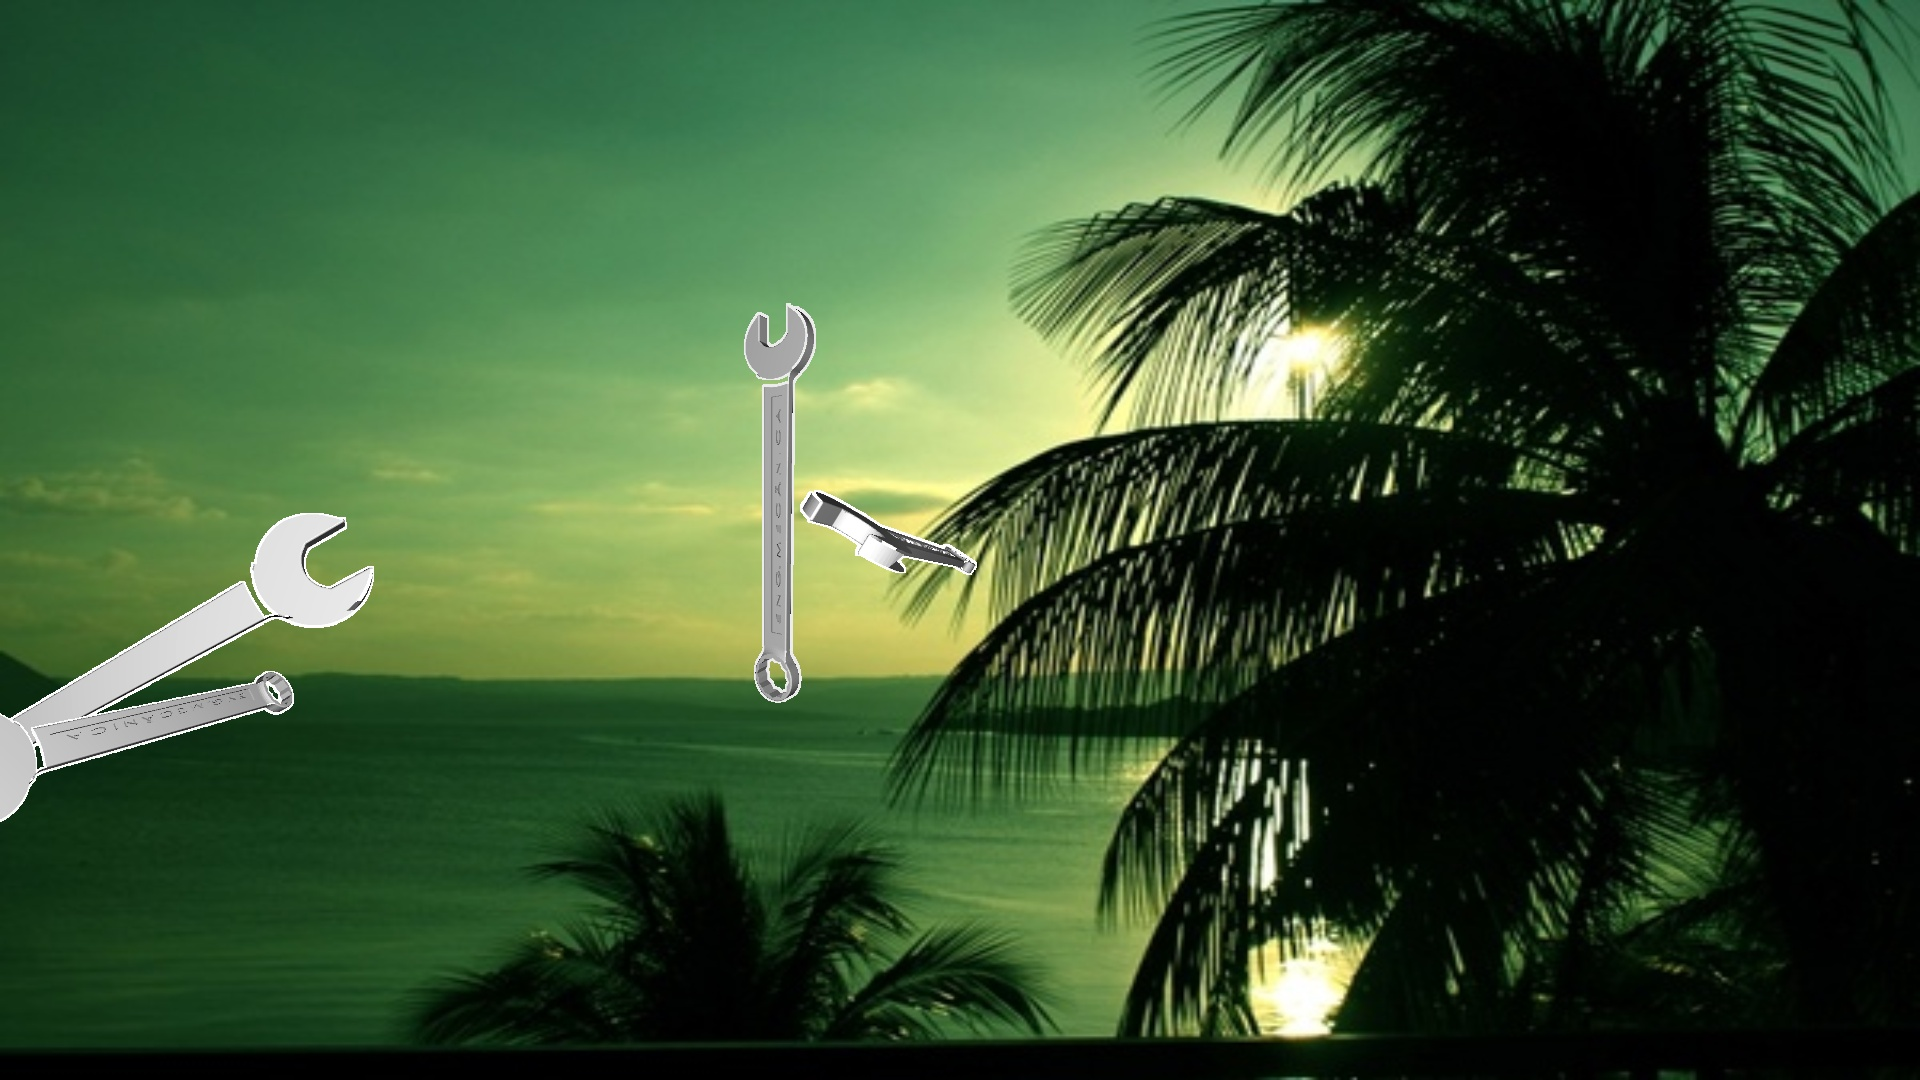Mixed Key: (11, 513, 373, 746), (0, 671, 293, 822), (744, 303, 815, 702), (800, 491, 976, 574)
